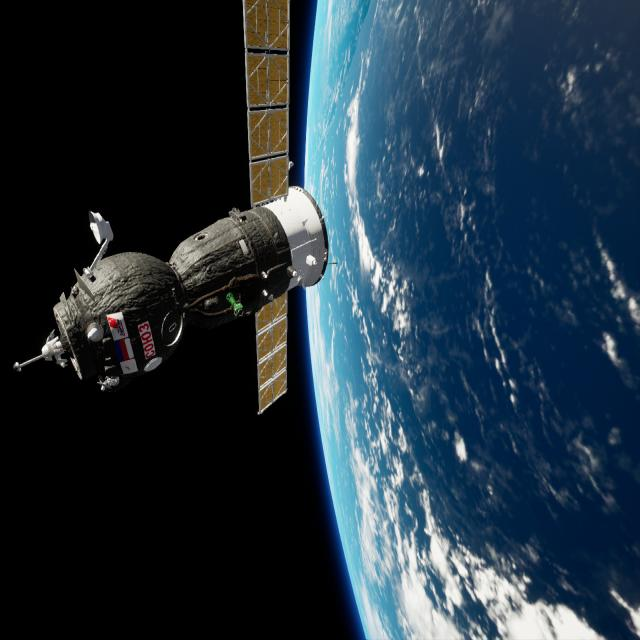Satellites revolving around earth: (299, 1, 639, 638), (12, 182, 330, 399)
